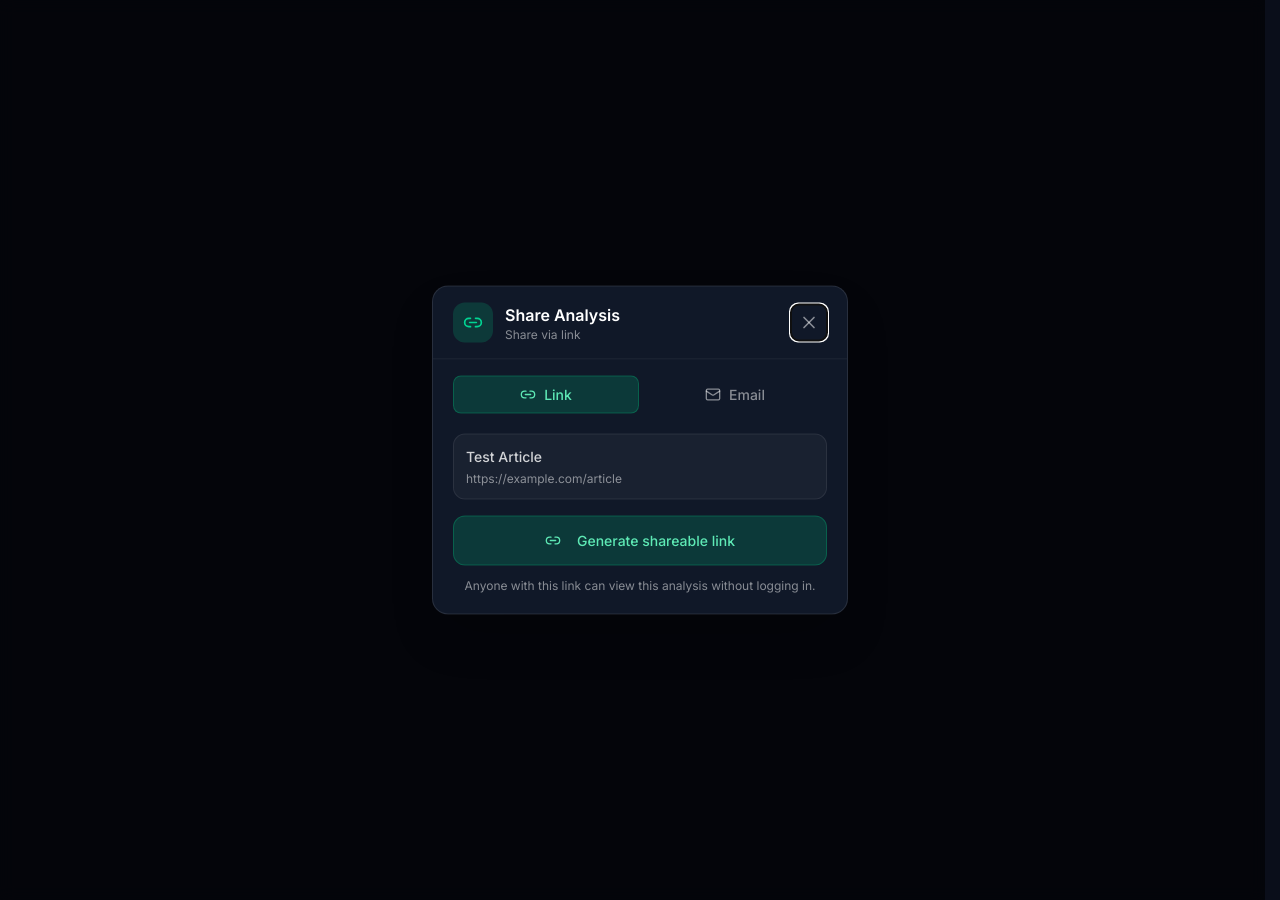
Test case: ShareModal › generates share link on button click
The width and height of the screenshot is (1280, 900).
Click the button "Generate shareable link".
click(640, 540)  # box [453,516,827,566]
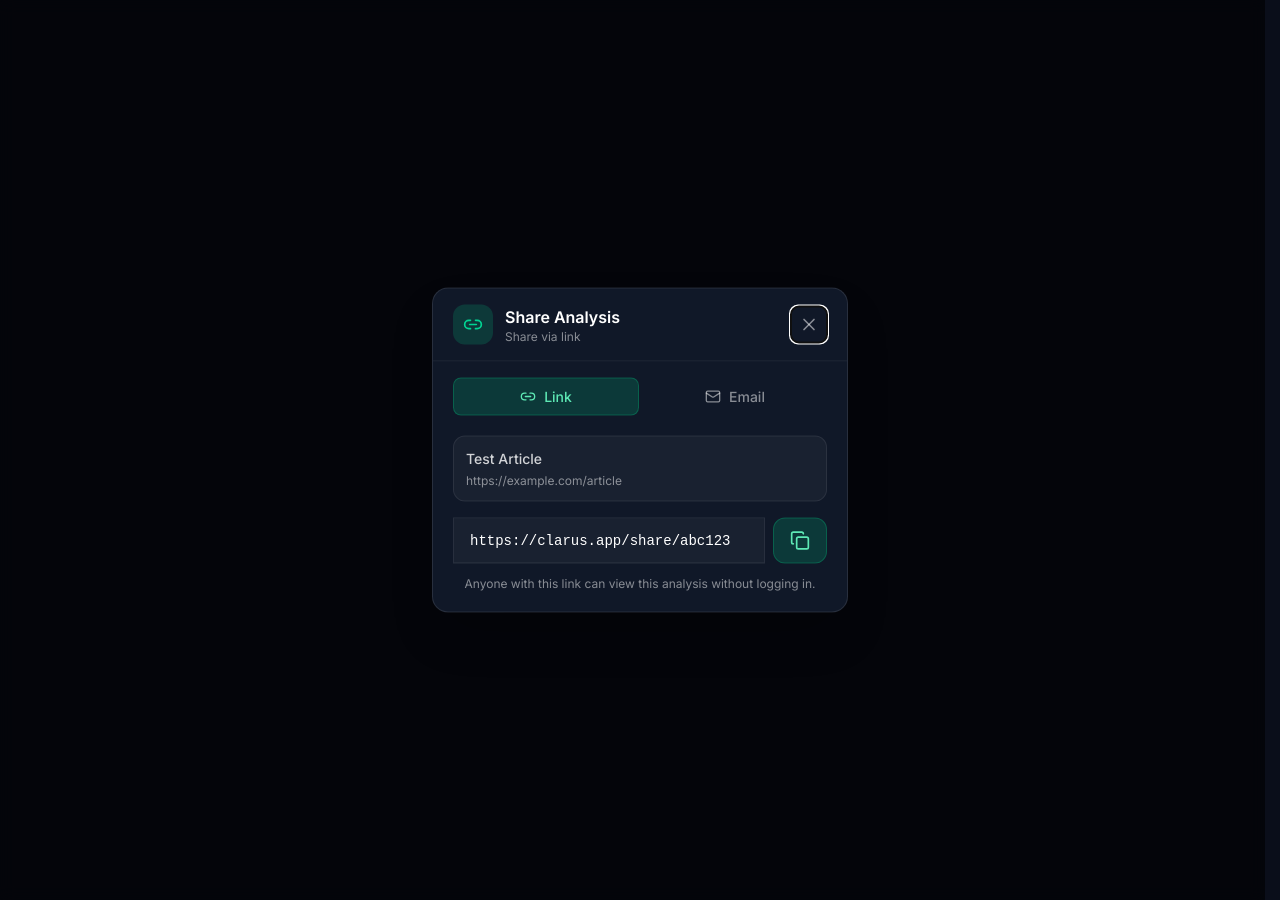
Expected: the field showing "https://clarus.app/share/abc123" is shown, [453,518,765,564]
